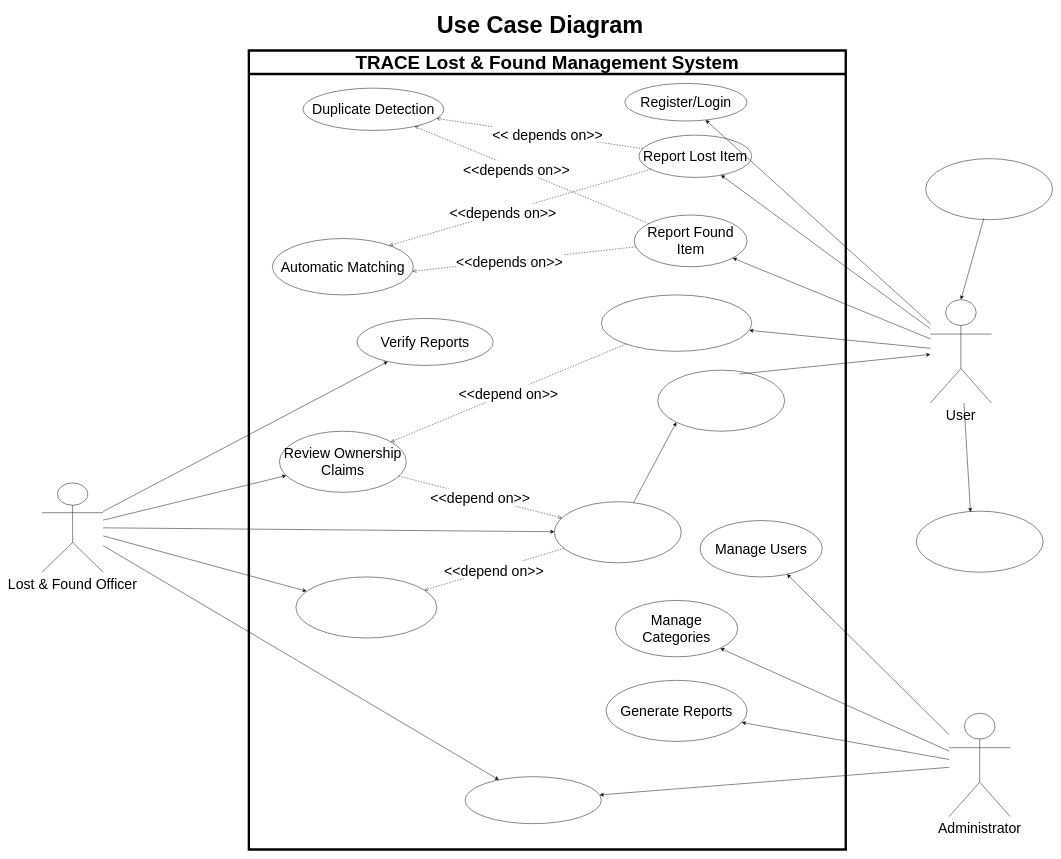
Image size: 1061x859. Some labels were removed from this diagram. The centre of each missing label's shape, as x and y in pixels:
"Approve Item Collection" belongs at point 617,532.
"Collect Approved Item" belongs at point 979,541.
"Find Lost Item" belongs at point 989,189.
"Login" belongs at point 533,800.
"Notification" belongs at point 721,400.
"Submit Ownership Claim" belongs at point 676,322.
"Update Item Status" belongs at point 366,607.
